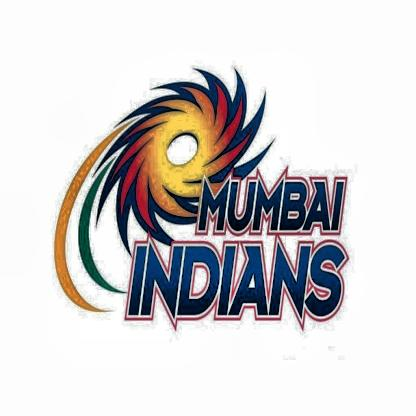Mumbai Indians: (57, 63, 358, 331)
